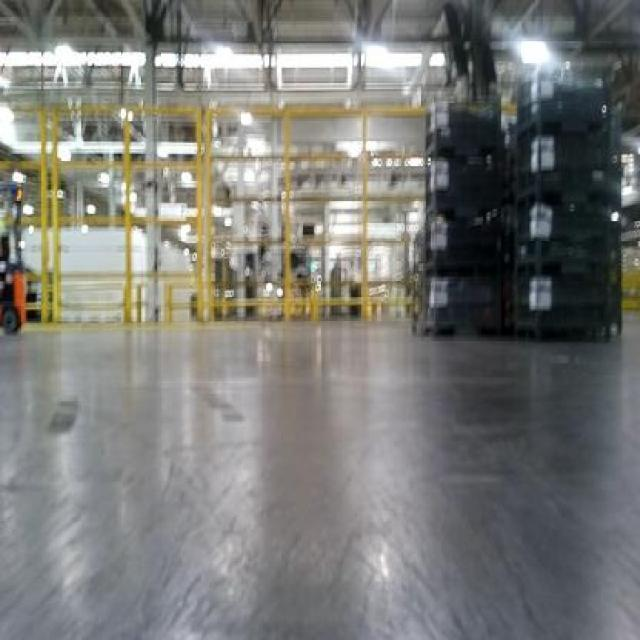forklift: (1, 184, 26, 335)
